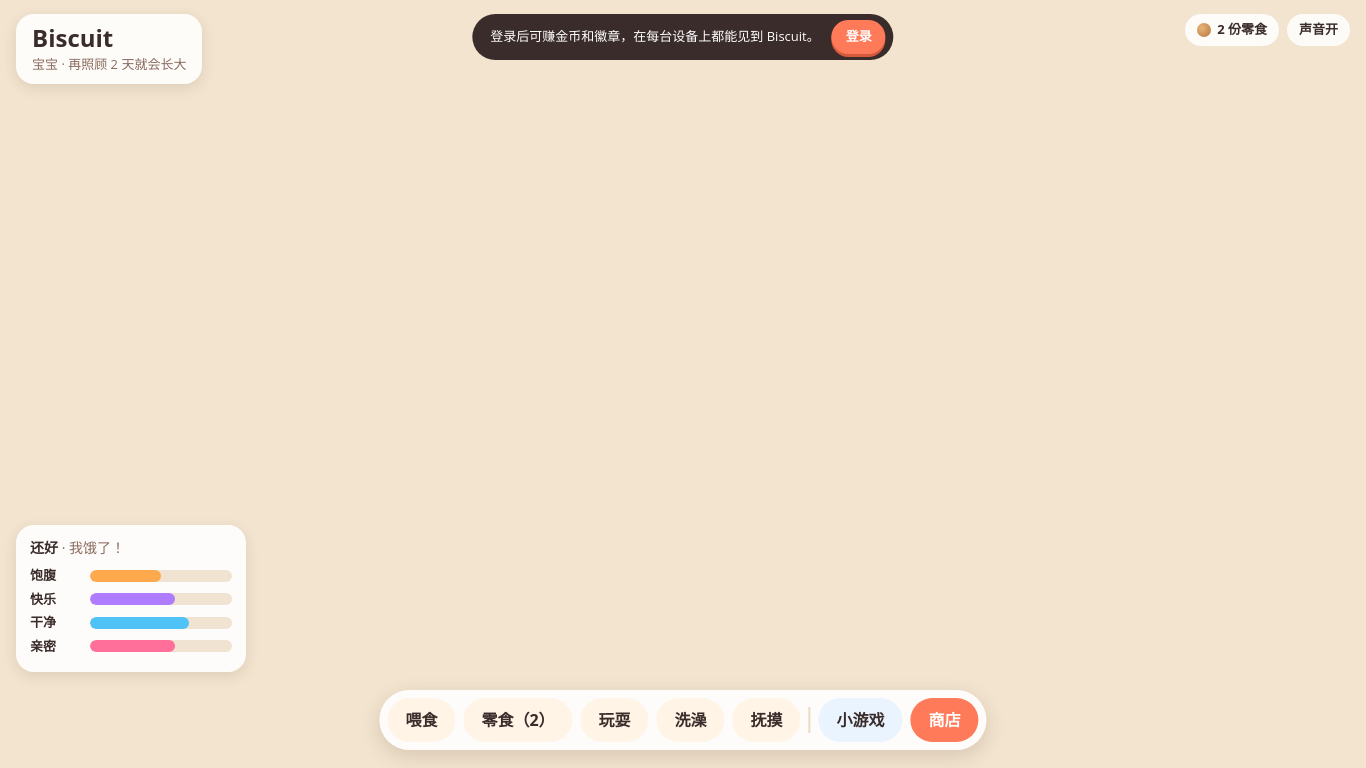
Test: speaks Chinese
Check: the button "喂食" is shown, box [387, 698, 455, 742]
What coordinates should you click on to do the following:
click the button "商店"
I would click on:
 (945, 720)
Its box is [911, 698, 979, 742].
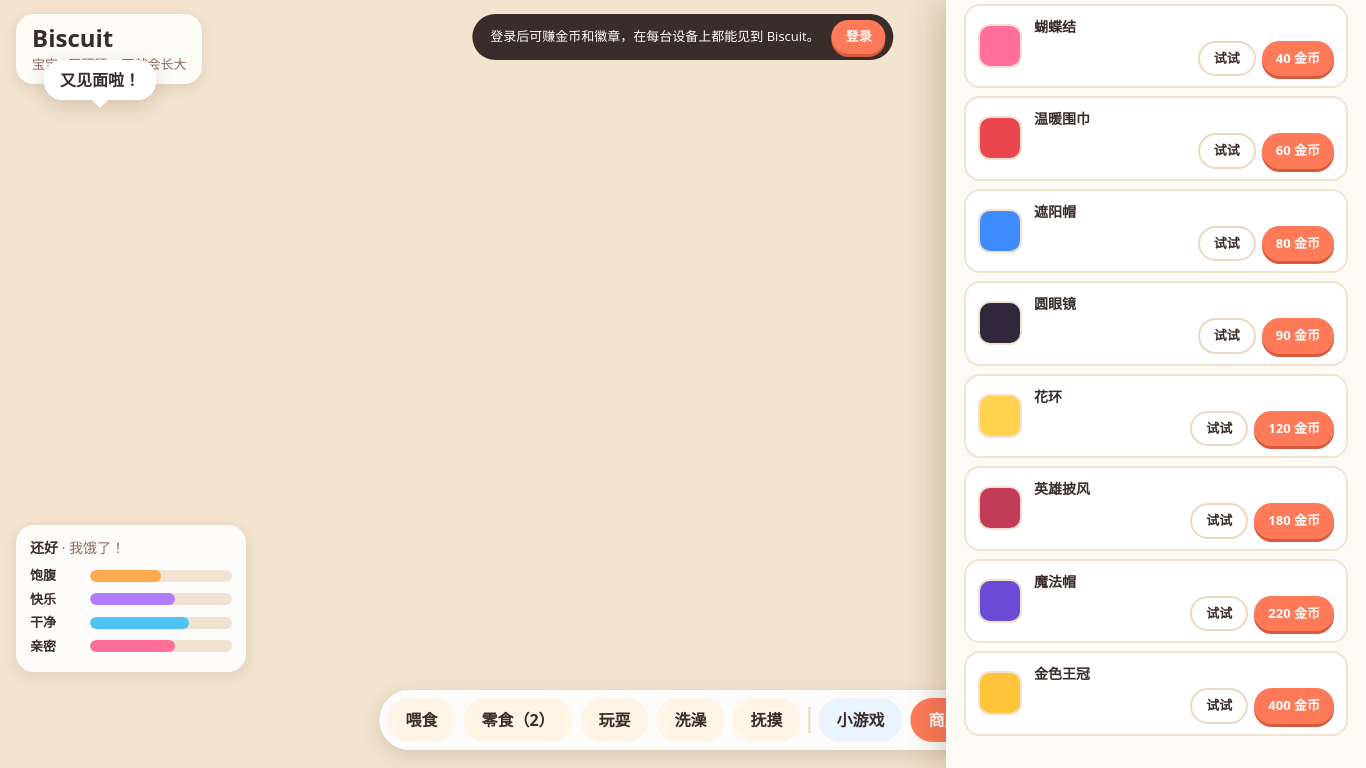
Check: the text "金色王冠" is shown, box [1034, 664, 1090, 683]
